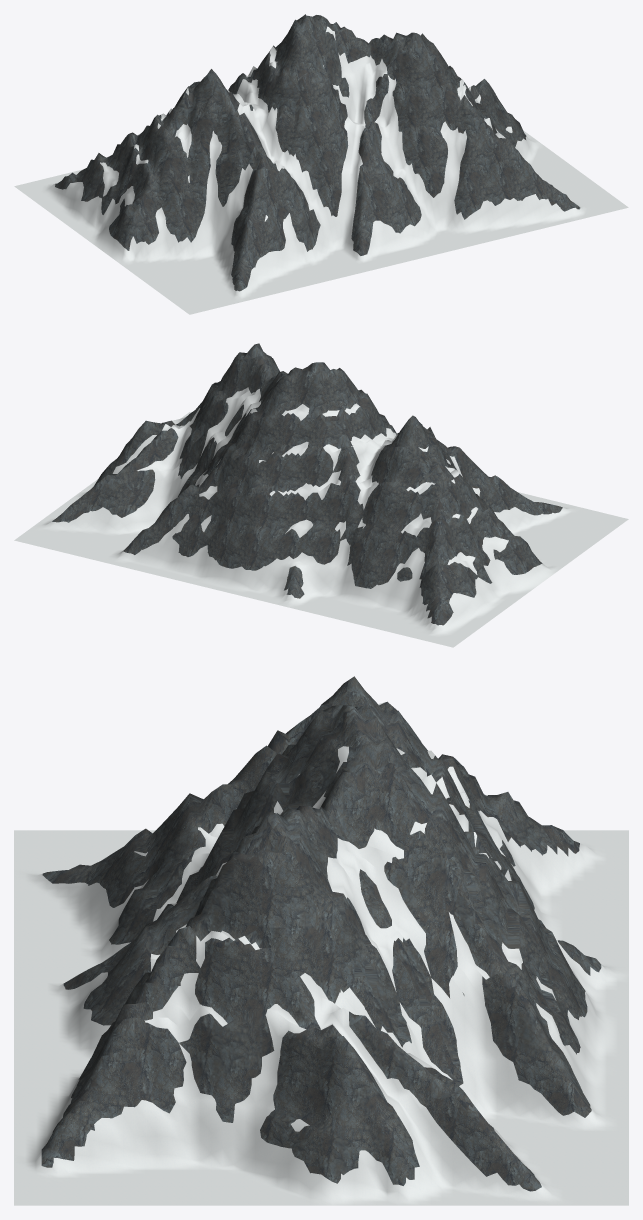
The picture shows the model from 3 angles, top to bottom: view 1: azimuth 30°, elevation 25°; view 2: azimuth 150°, elevation 25°; view 3: azimuth 270°, elevation 25°; orthographic projection. The views are drawn at different scales.
Parts seen in each view (by area): view 1: Mesh_rock, Mesh_snow; view 2: Mesh_rock, Mesh_snow; view 3: Mesh_rock, Mesh_snow.
Boxes of the visible parts, box(x1,y1,x2,y2) form: Mesh_rock: box(55, 14, 580, 291); Mesh_snow: box(14, 26, 628, 314); Mesh_rock: box(52, 343, 562, 625); Mesh_snow: box(14, 387, 628, 647); Mesh_rock: box(41, 676, 601, 1191); Mesh_snow: box(14, 702, 628, 1205).
Bounding box in the file's own units: 104 × 39.71 × 72.
Materials: 2 (2 with a texture image).
